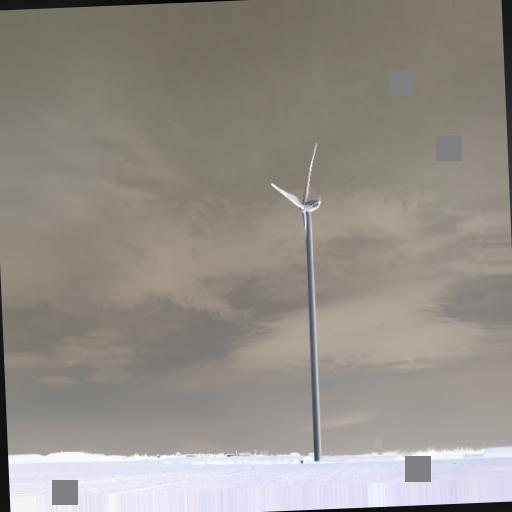wind turbine: (268, 141, 323, 457)
